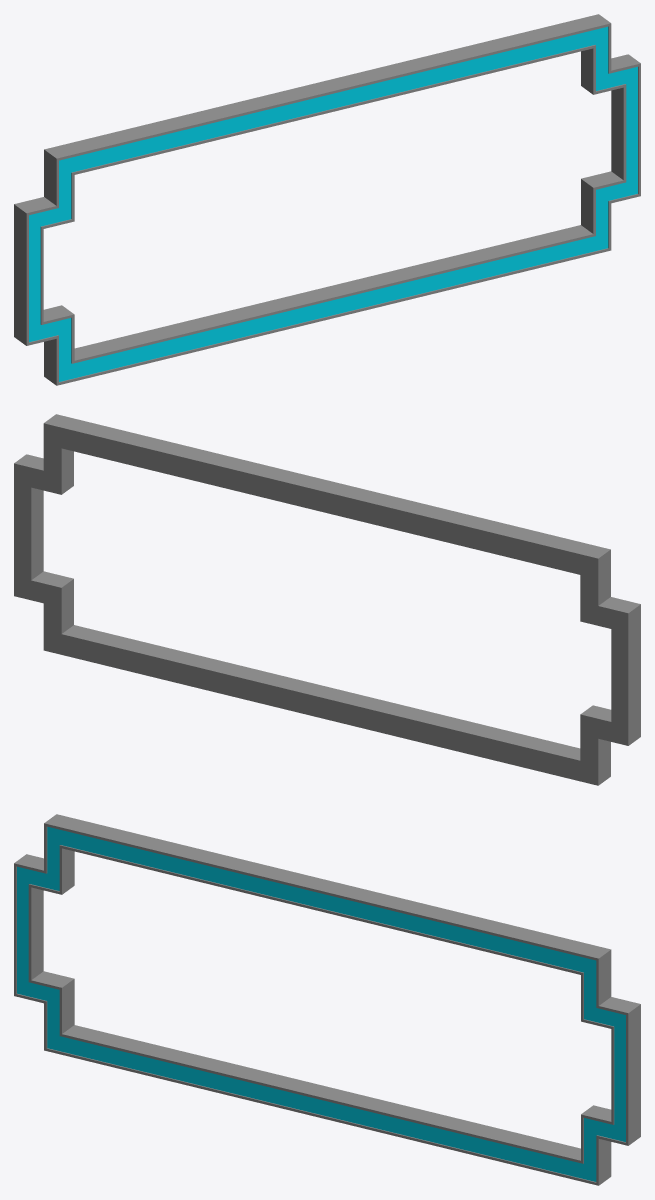
Rendered from Frame.obj.
The picture shows the model from 3 angles, top to bottom: view 1: azimuth 30°, elevation 25°; view 2: azimuth 150°, elevation 25°; view 3: azimuth 330°, elevation 25°; orthographic projection.
Size of the model in its own units: 11.44 by 4.04 by 0.4037.
1 material, 1 textured.
